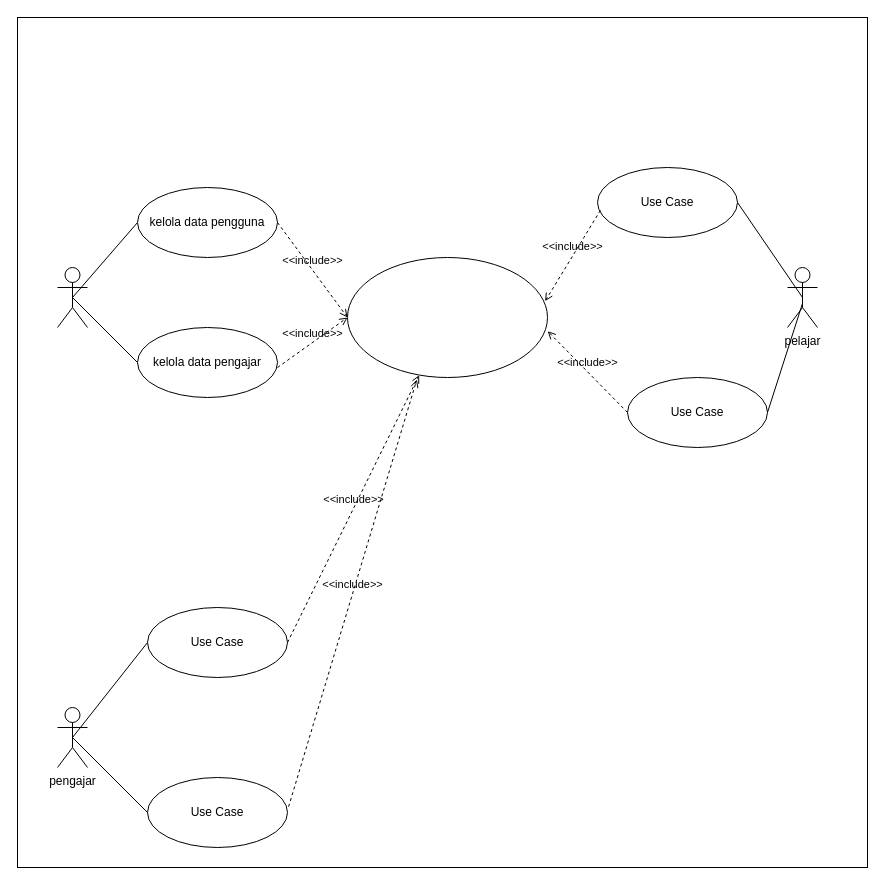
This 885x885 diagram has some shape labels left out. Here are the shapes that lost their labels. From the top down, the centre of each, then its label:
(72,297): admin
(447,317): LOGIN
